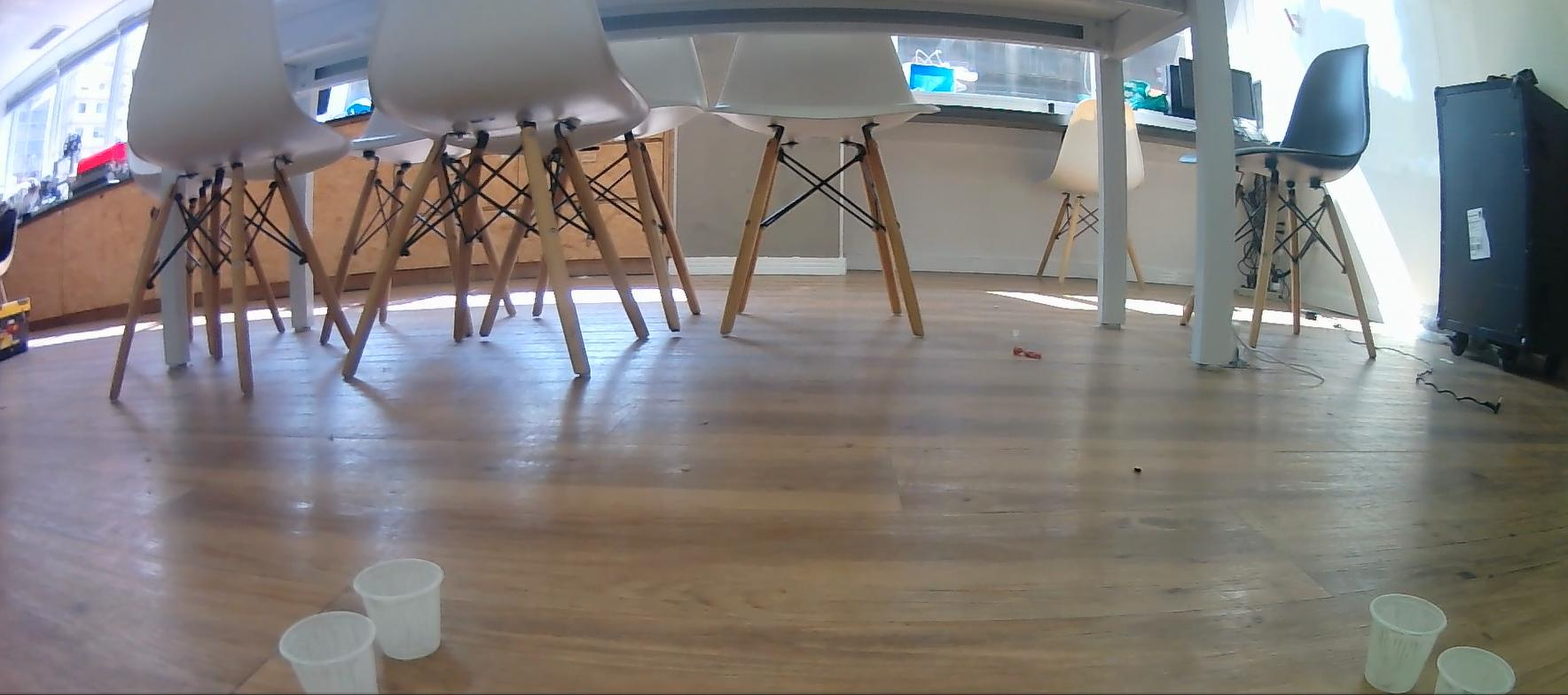planta: (352, 558, 445, 660), (278, 611, 380, 695), (1363, 593, 1448, 693), (1435, 645, 1517, 695)
